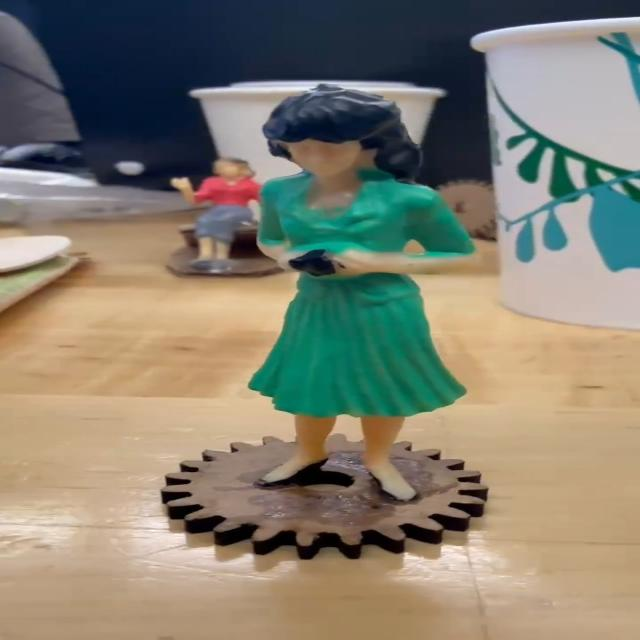Authorized: (153, 82, 567, 480)
